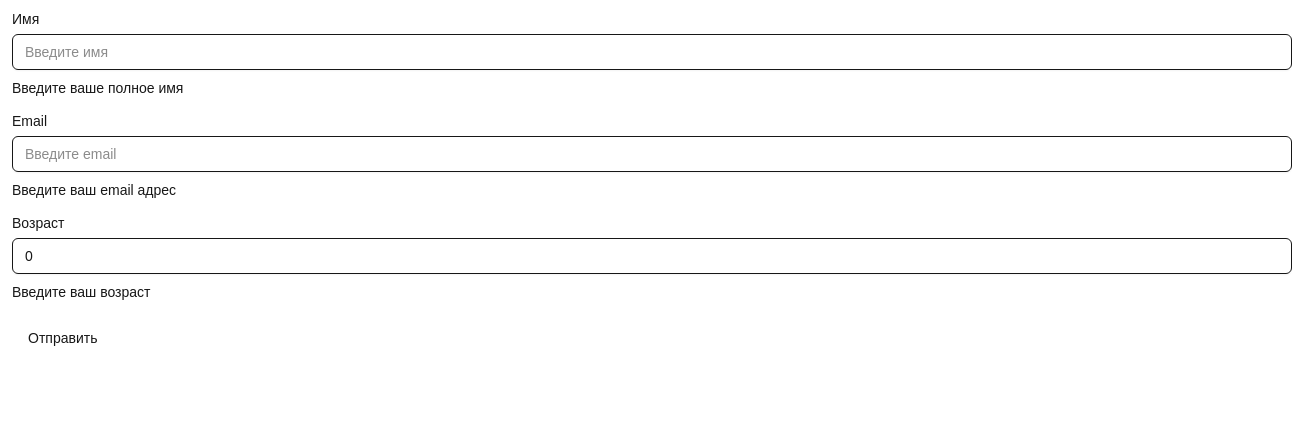
Scenario: Form › clears validation errors when user starts typing
Submit the form
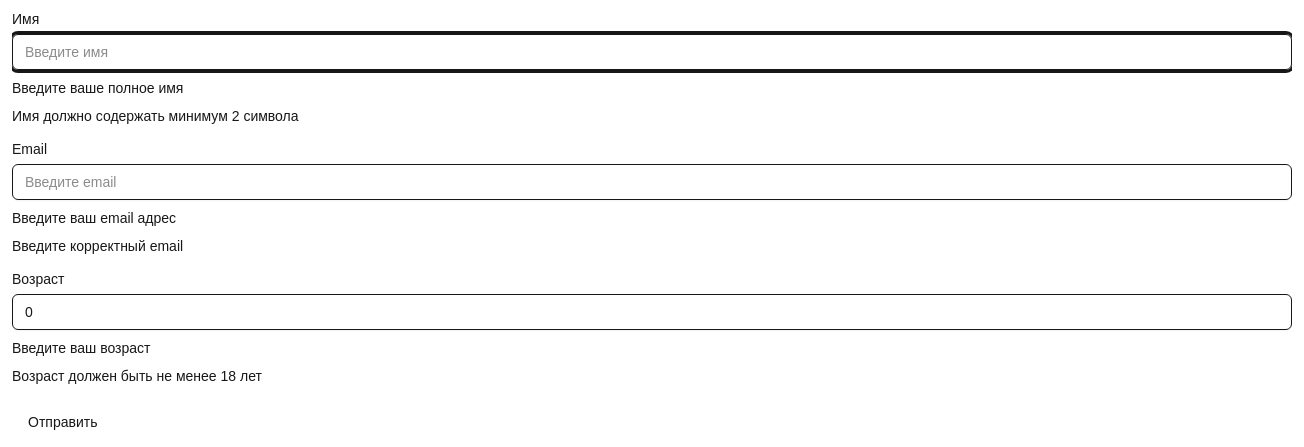
expect the text "Имя должно содержать минимум 2 символа" is shown: met, box [12, 108, 298, 124]
# Начинаем вводить валидное имя
Type "Иван" into the field labelled "Имя" at (652, 52), box [12, 34, 1292, 70]
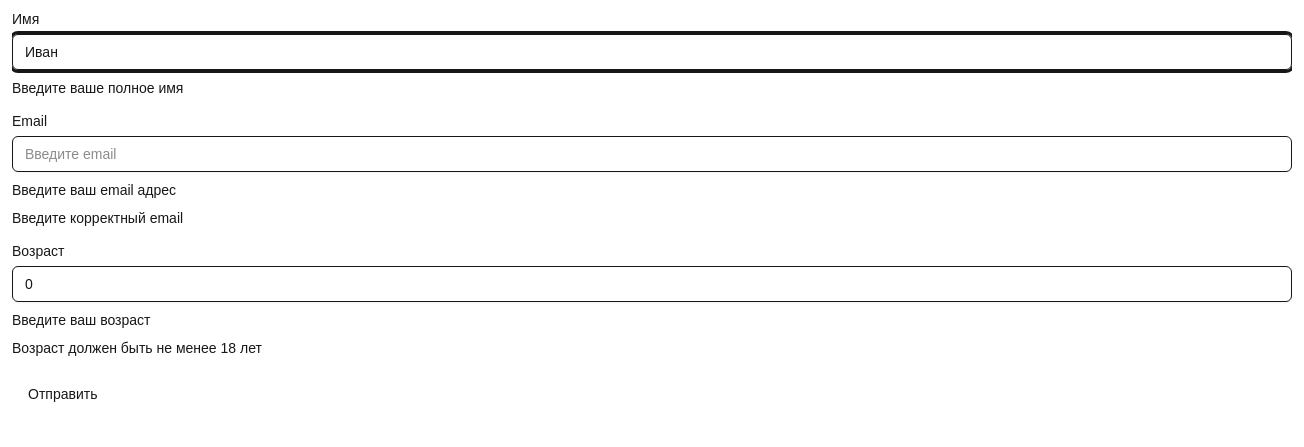
expect the text "Имя должно содержать минимум 2 символа" is gone: met
